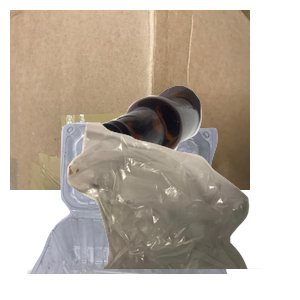cardboard: (10, 10, 250, 190)
glass: (90, 83, 300, 235)
plastic: (25, 120, 245, 300)
trash: (65, 120, 300, 300)
